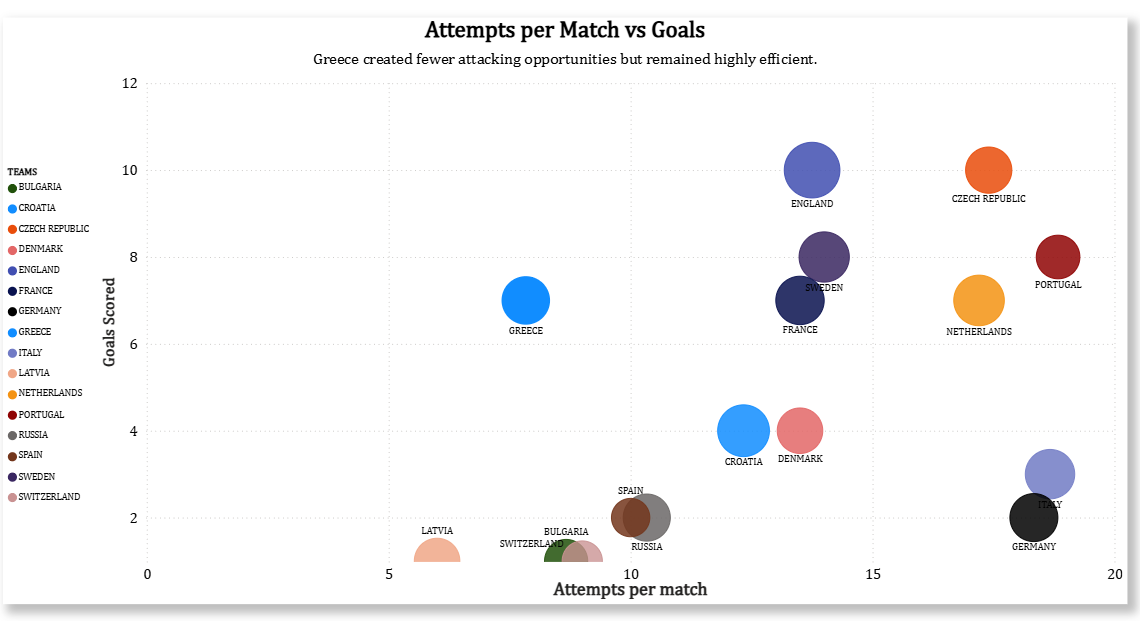

The dashboard page shown, as its layout file describes it:
{"tool":"powerbi","page":{"name":"Attempts per match vs golas","canvas":[1280,720],"ordinal":2},"visuals":[{"type":"scatterChart","title":"Attempts per Match vs Goals","fields":{"X":["Sum(Teams Stats.ATTEMPTS PER MATCH)"],"Y":["Sum(Teams Stats.GOALS)"],"Series":["Teams Stats.TEAMS"],"Size":["Sum(Teams Stats.SHOT ACCURACY %)"]},"box":[22.4,35.1,1234,643.6],"z":0}]}

Visuals, with their boxes on the page's 1280x720 design canvas (x1, y1, x2, y2). These are canvas units, not pixel positions in the 1140x621 screenshot, which may show the page scaled, cropped or inside an application window:
"Attempts per Match vs Goals" scatterChart: detection(22, 35, 1256, 679)
